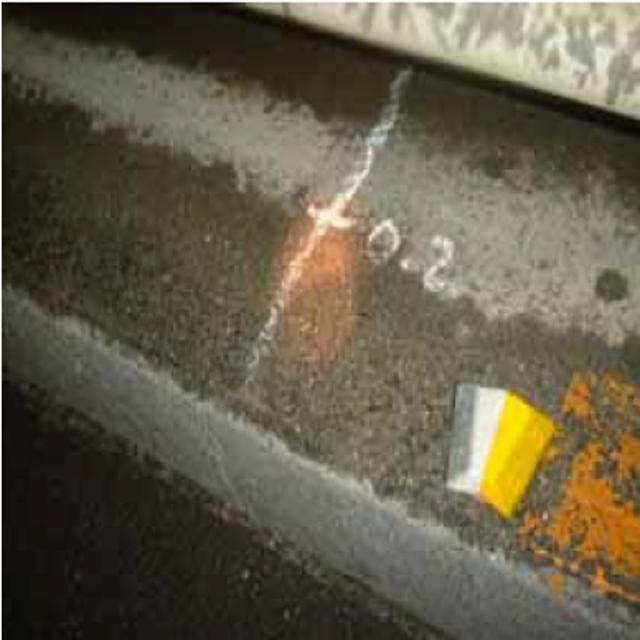crack: (240, 42, 416, 437)
